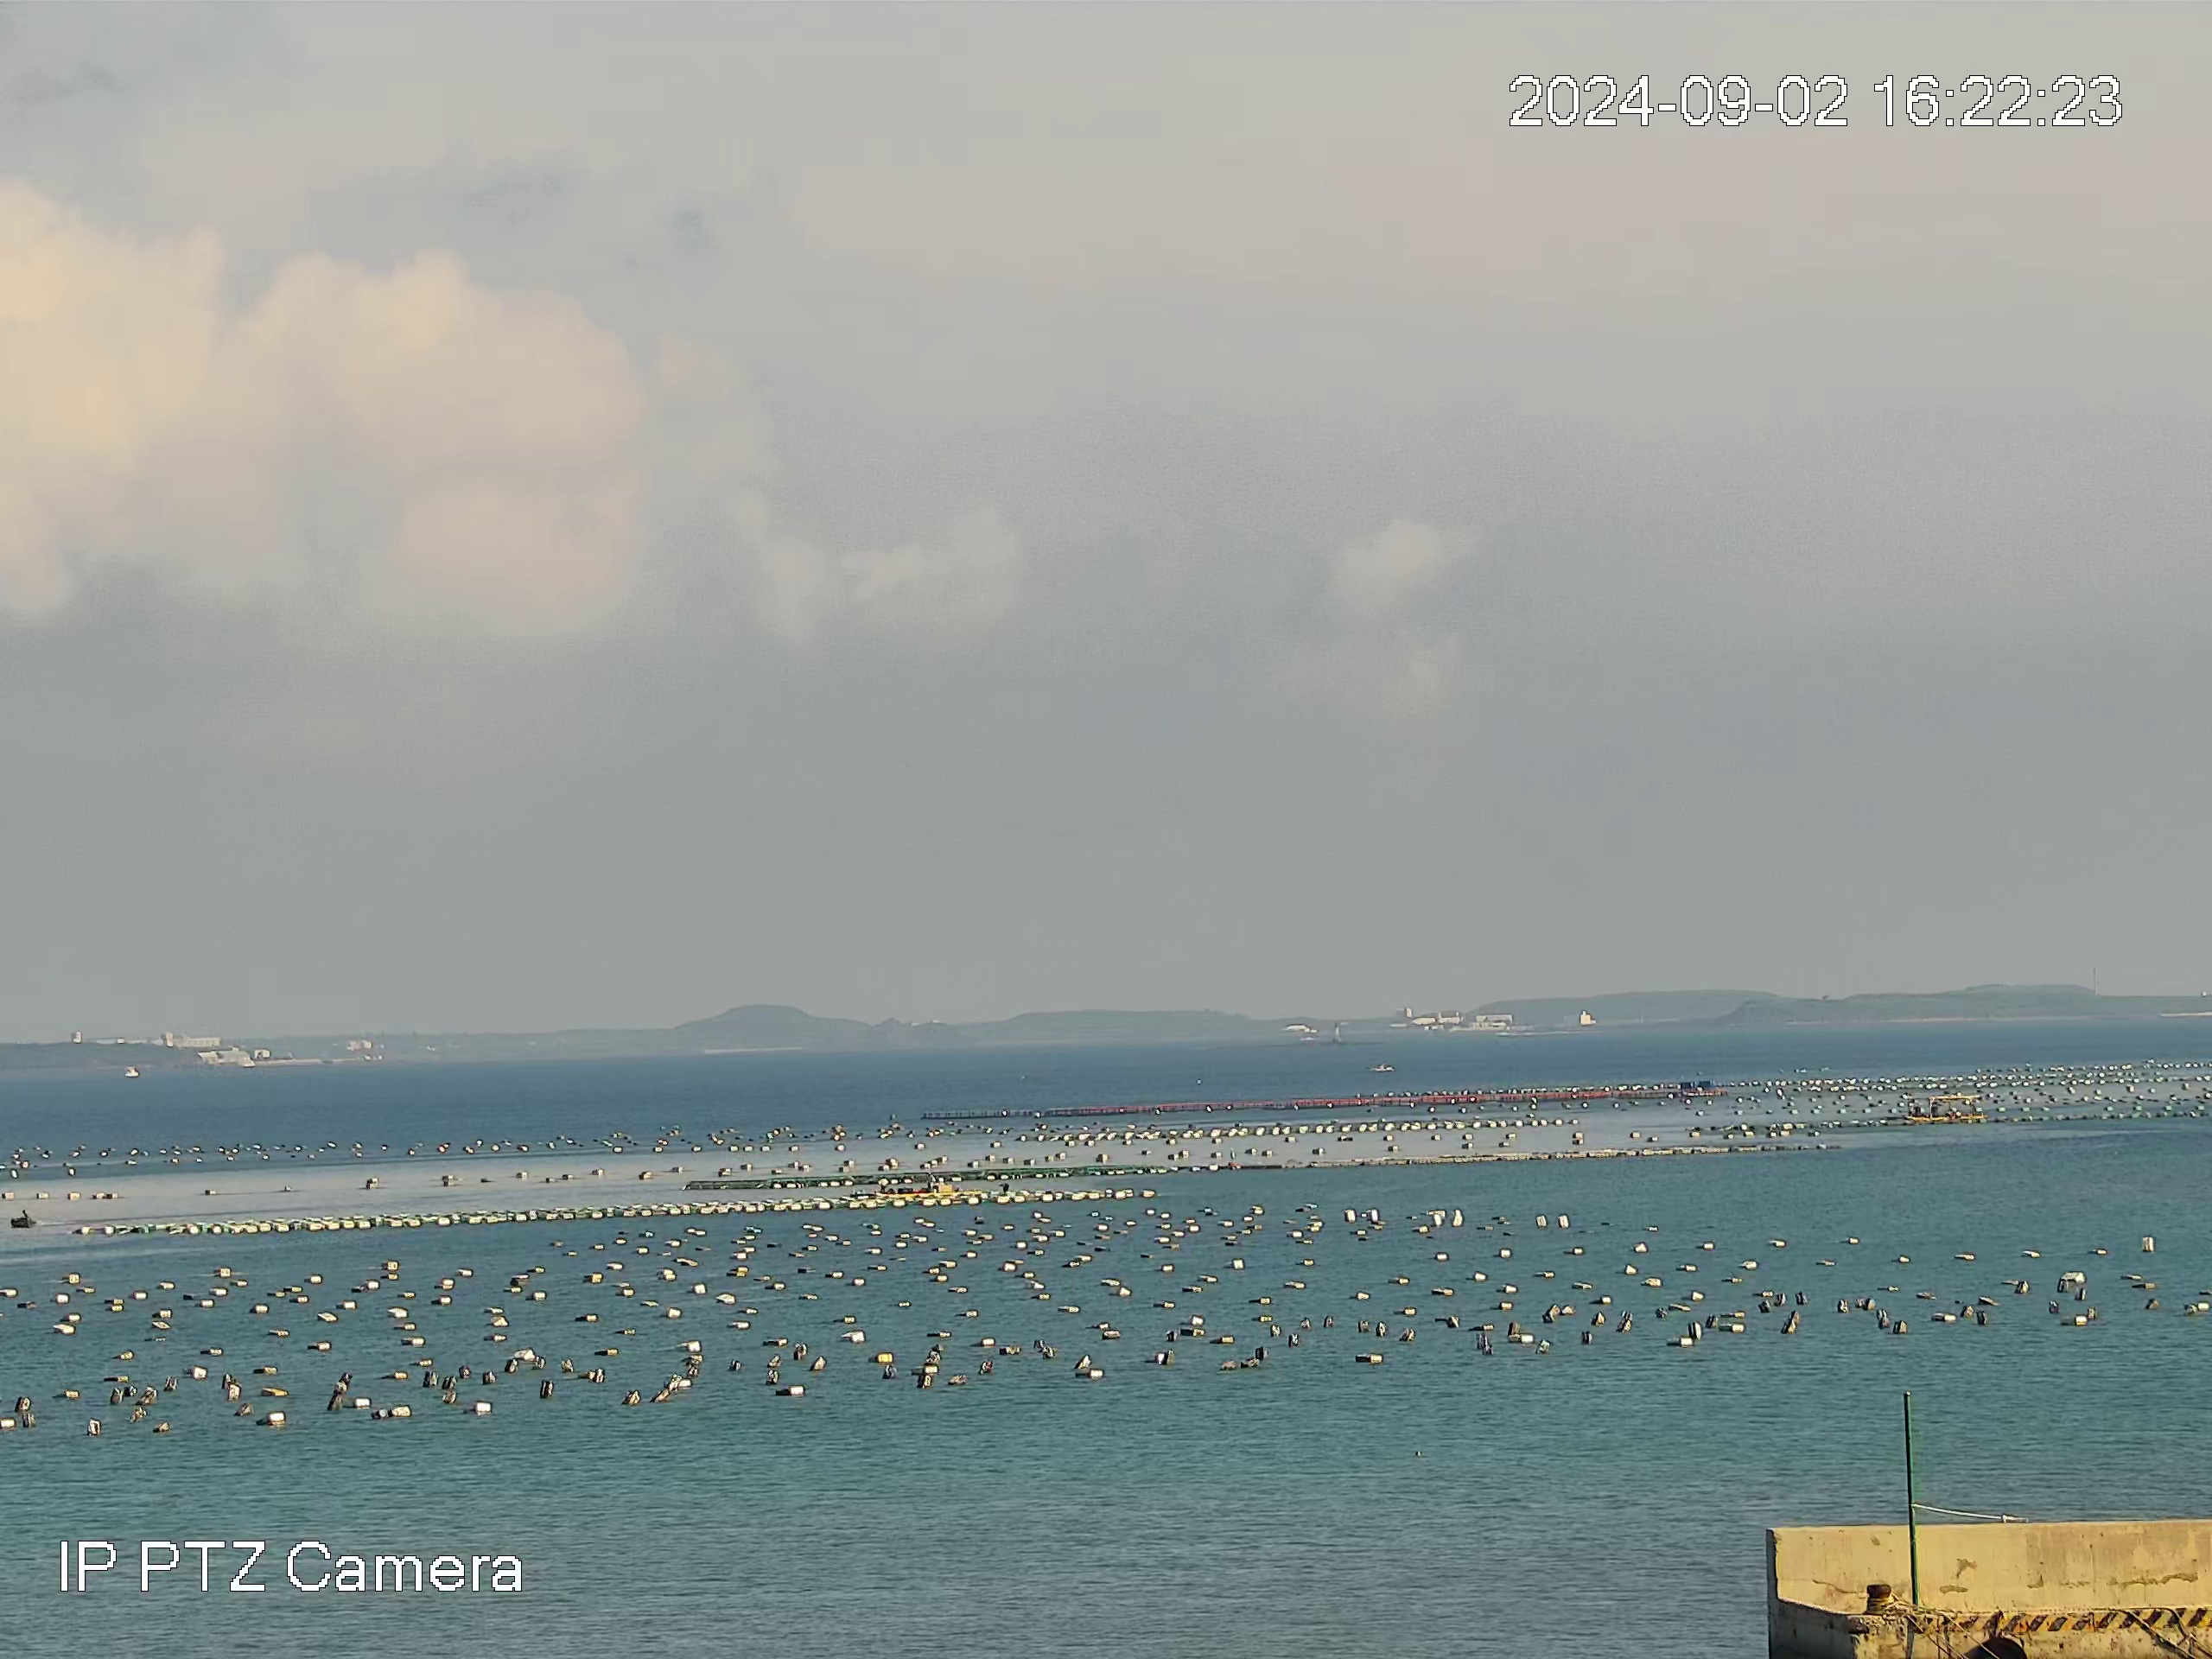boat: (1900, 1094, 1986, 1126), (873, 1173, 982, 1197), (7, 1209, 42, 1230), (1366, 1061, 1397, 1073)
